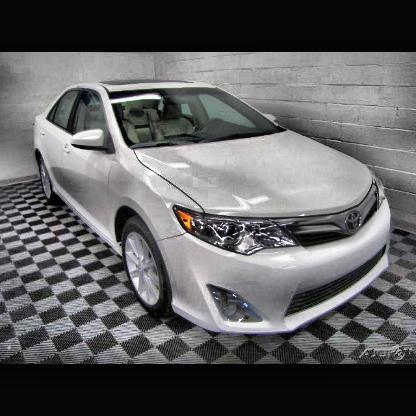Toyota Camry Sedan 2012: (33, 81, 393, 338)
